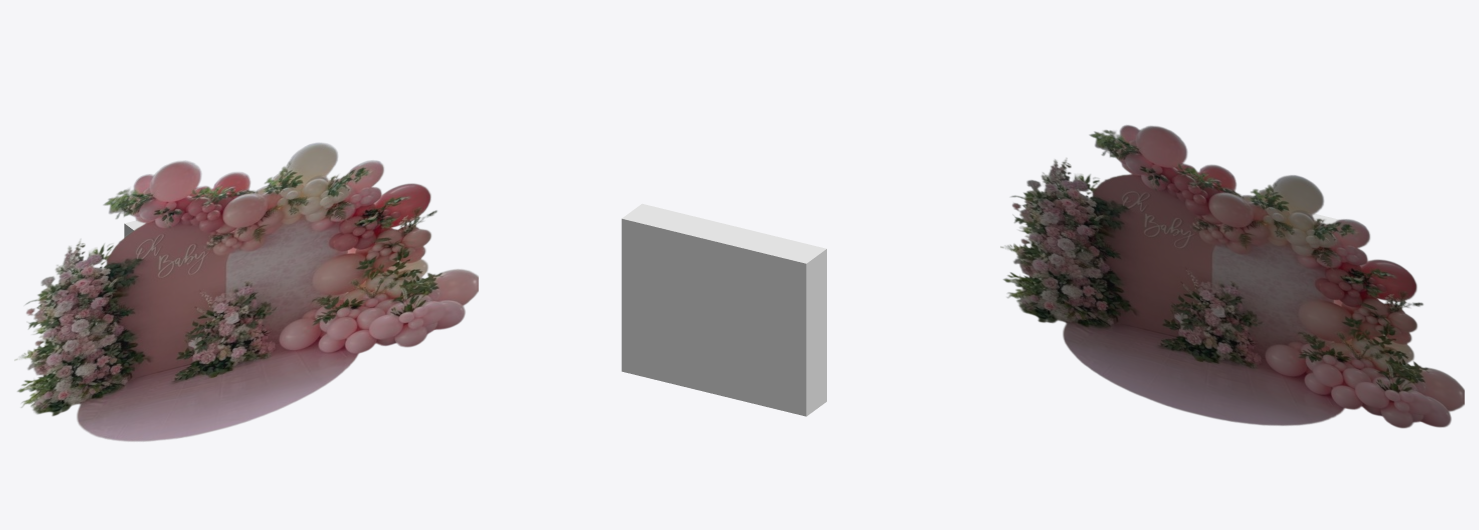
Rendered from garden-baby-shower.glb.
3 views of the same model, side by side, from view 1: azimuth 30°, elevation 25°; view 2: azimuth 150°, elevation 25°; view 3: azimuth 330°, elevation 25° (orthographic).
Parts seen in each view (by area): view 1: Plane; view 2: Box; view 3: Plane.
Part boxes in pixels (bbox=[...]): Plane: bbox=[14, 142, 478, 441]; Box: bbox=[621, 203, 826, 416]; Plane: bbox=[1000, 125, 1464, 428].
Size of the model in its own units: 6.23 by 4.98 by 0.6411.
Materials: 2 (1 with a texture image).
